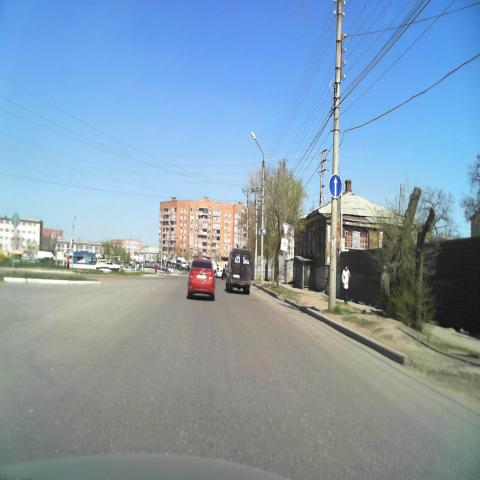8_13_1: (280, 238, 288, 252)
